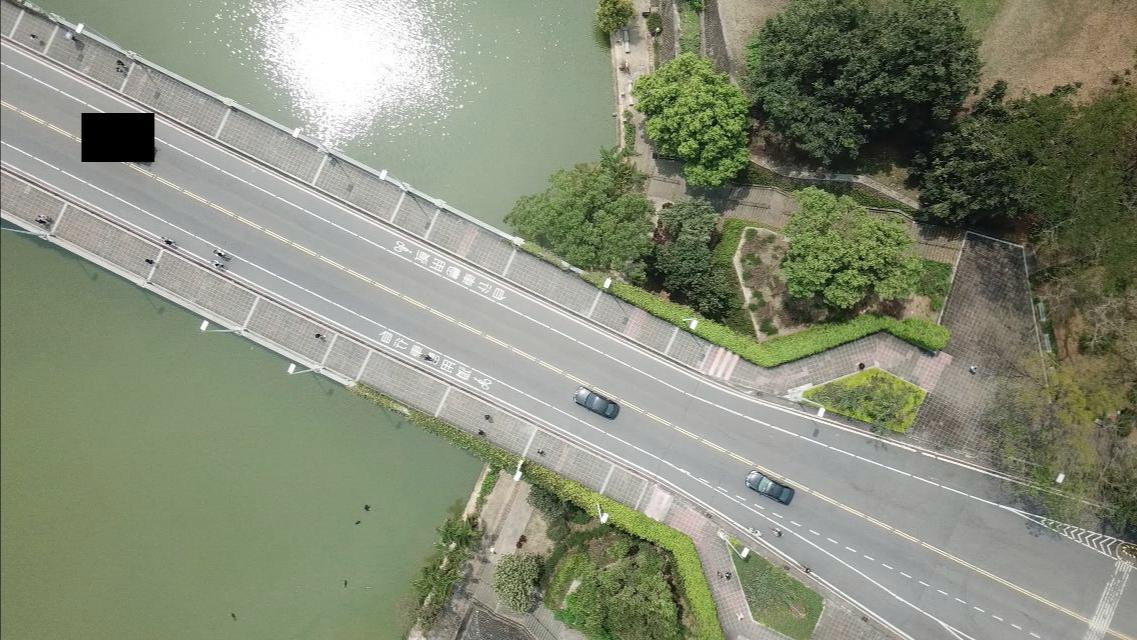vehicle: (744, 470, 793, 508), (575, 385, 622, 420)
